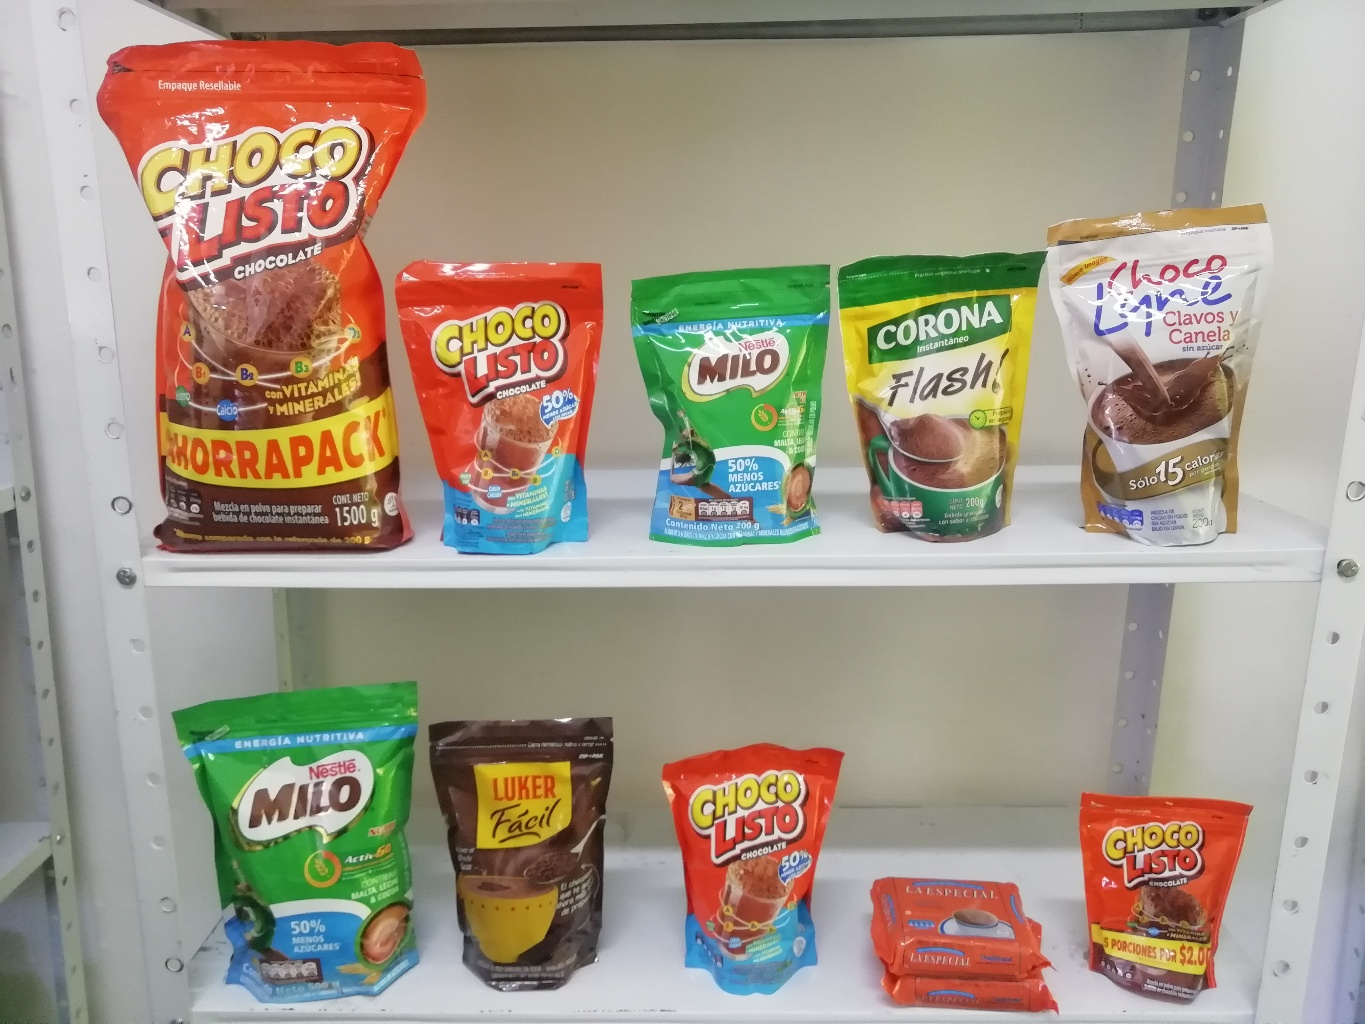COL0170103DYP1,500: (94, 37, 420, 557)
COL0170104DYP20000: (393, 251, 617, 555)
COL0170205DYP20000: (628, 272, 833, 549)
COL0170205DYP50000: (163, 681, 429, 1002)
